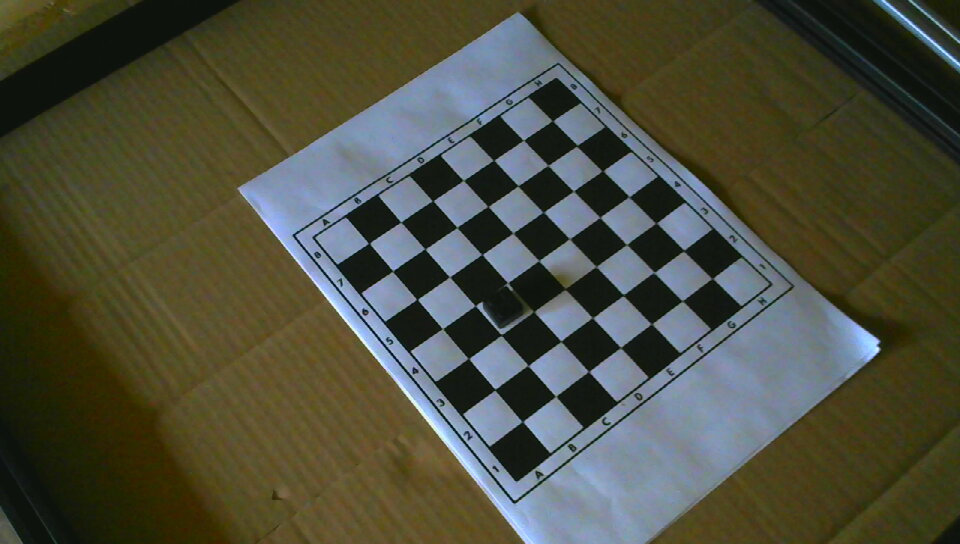bp: (484, 287, 523, 328)
